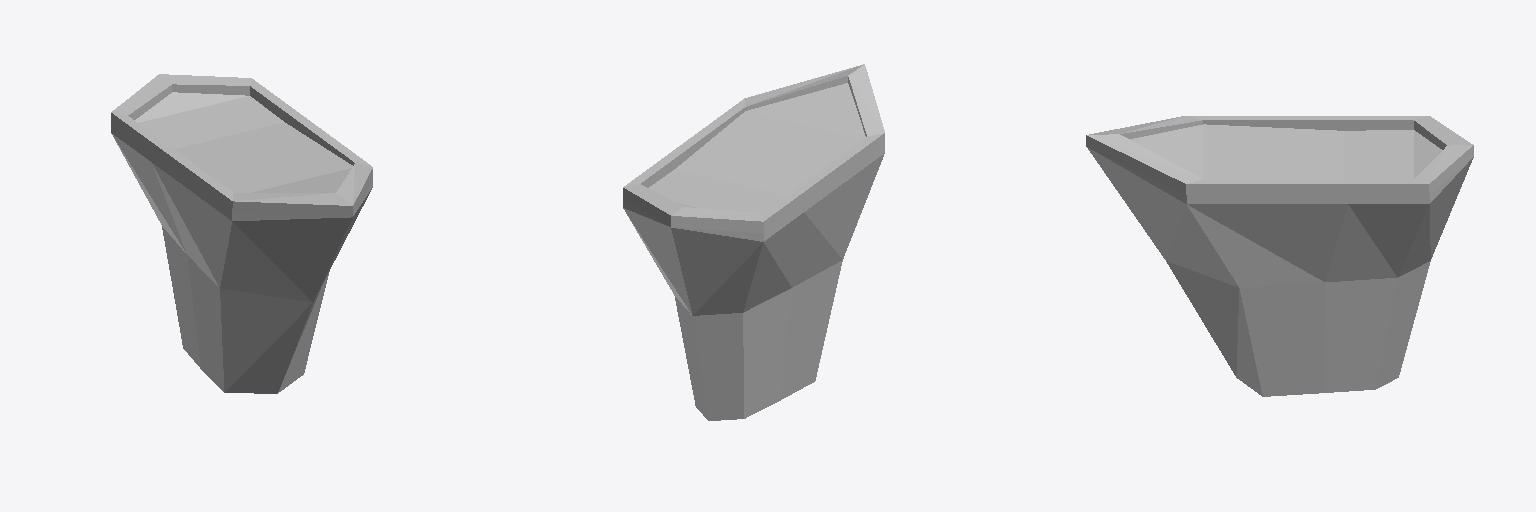
File: boat.obj
3 renders of one model, left to right at view 1: azimuth 30°, elevation 25°; view 2: azimuth 150°, elevation 25°; view 3: azimuth 270°, elevation 25°, orthographic.
Parts seen in each view (by area): view 1: Cube; view 2: Cube; view 3: Cube.
Part boxes in pixels (left/top/right/bottom): Cube: left=111, top=74, right=372, bottom=393; Cube: left=623, top=64, right=884, bottom=420; Cube: left=1086, top=116, right=1473, bottom=396.
Bounding box in the file's own units: 0.8193 × 1.36 × 1.96.